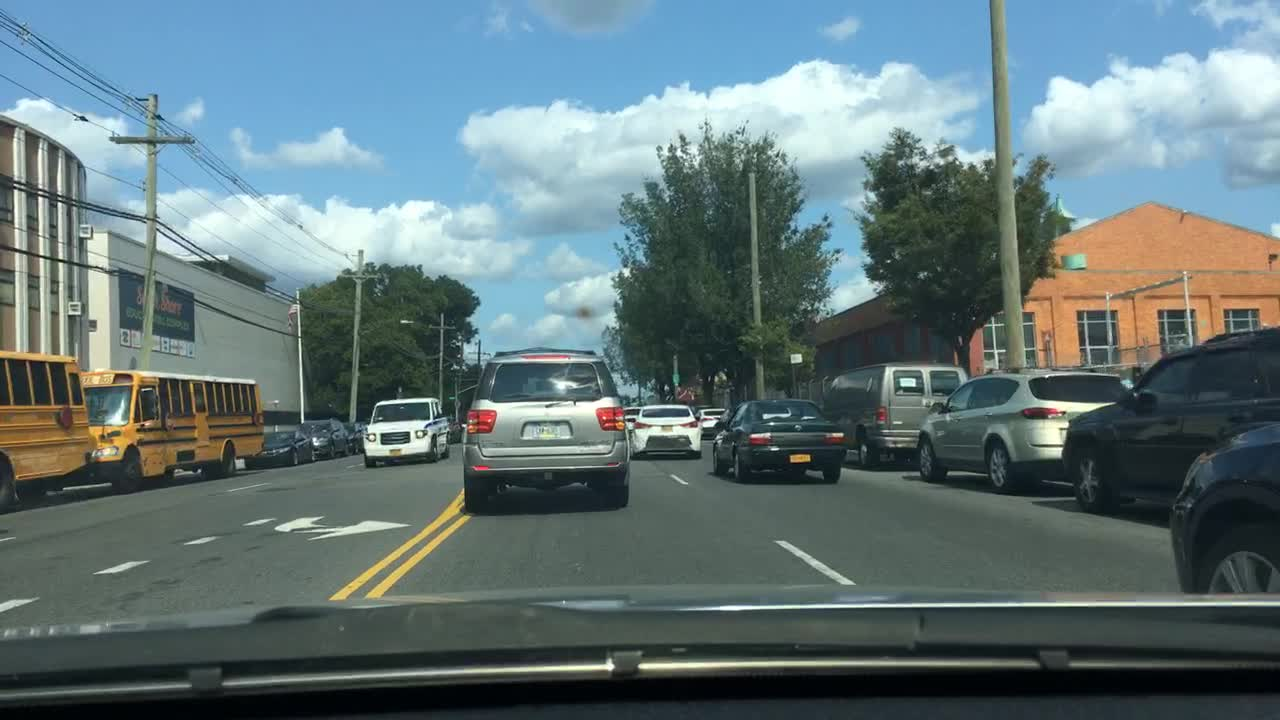bus: (79, 370, 269, 490), (0, 347, 91, 510)
car: (1059, 327, 1280, 522), (460, 347, 629, 513), (914, 364, 1129, 490), (1169, 421, 1280, 594), (825, 362, 966, 468), (713, 390, 844, 484), (361, 396, 454, 464), (629, 405, 701, 458), (248, 431, 314, 467), (295, 418, 348, 459), (693, 405, 730, 436), (343, 421, 369, 451), (441, 421, 460, 445), (624, 405, 639, 431)
traffic sign: (788, 352, 804, 365), (672, 372, 682, 384)
